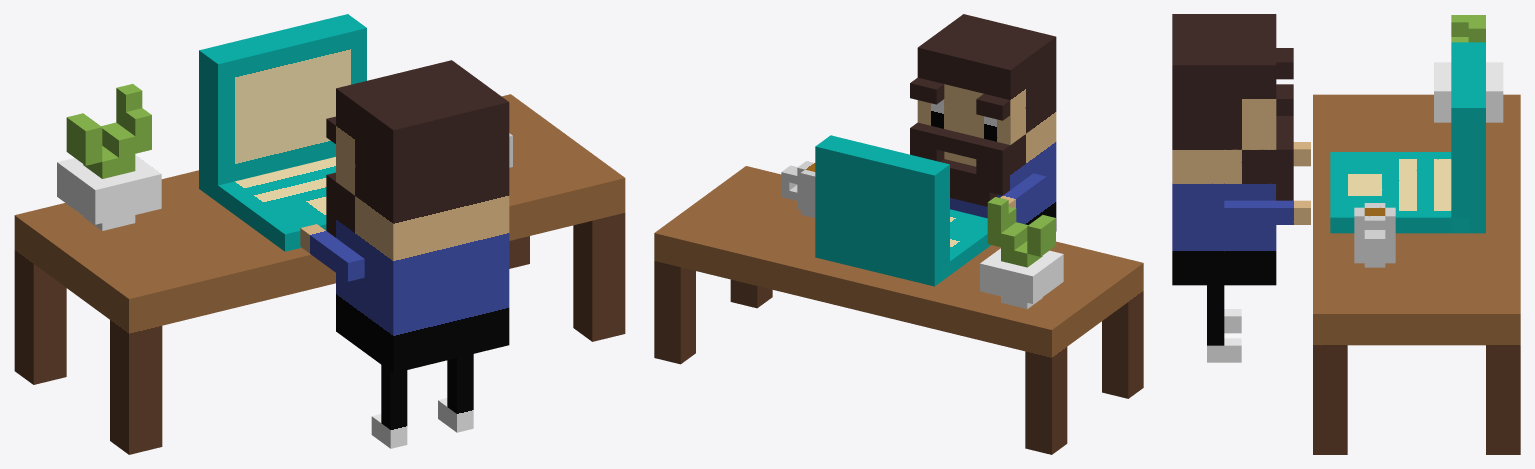
Rendered from character.glb.
3 renders of one model, left to right at view 1: azimuth 30°, elevation 25°; view 2: azimuth 150°, elevation 25°; view 3: azimuth 270°, elevation 25°, orthographic. The views are drawn at different scales.
Parts seen in each view (by area): view 1: 0-export, 2-export; view 2: 0-export, 2-export, 1-export; view 3: 0-export, 2-export, 1-export.
Boxes of the visible parts, x1,y1,x2,y2 form: 0-export: (14, 14, 625, 454); 2-export: (300, 60, 509, 448); 0-export: (654, 135, 1143, 454); 2-export: (910, 14, 1056, 231); 1-export: (781, 161, 815, 217); 0-export: (1313, 15, 1520, 454); 2-export: (1172, 14, 1310, 362); 1-export: (1354, 203, 1395, 267).
Bounding box in the file's own units: 30 × 19.44 × 20.13.
3 materials, 3 textured.
